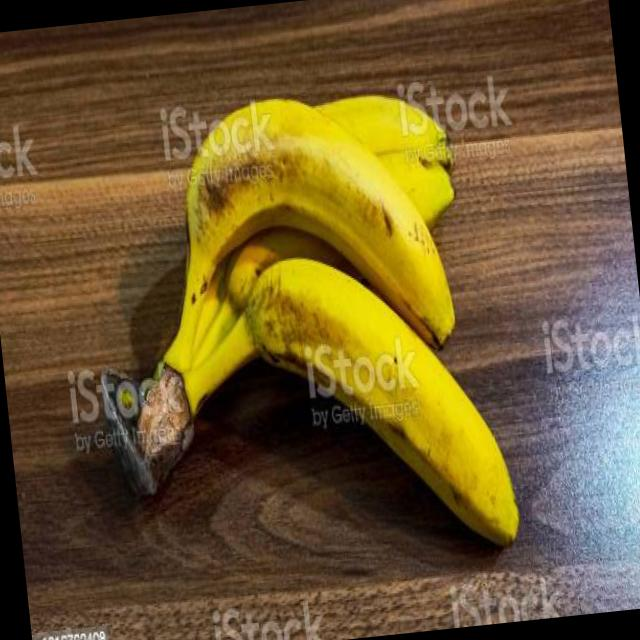Platano: (64, 65, 528, 592)
